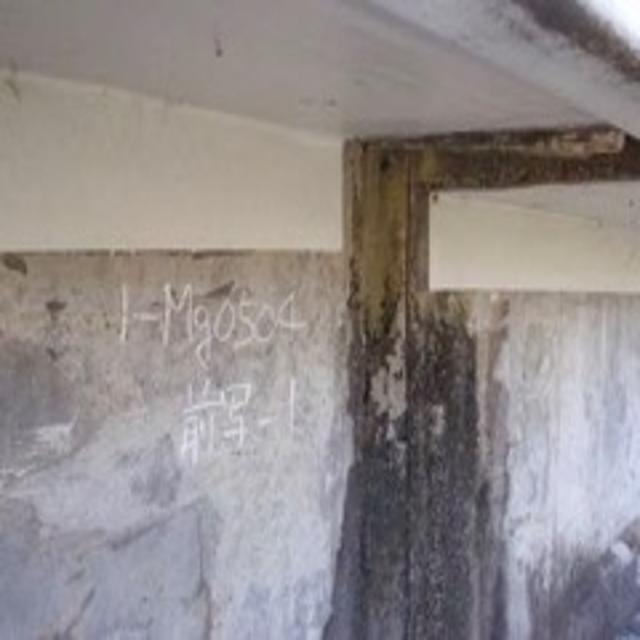leakage: (338, 130, 468, 636)
